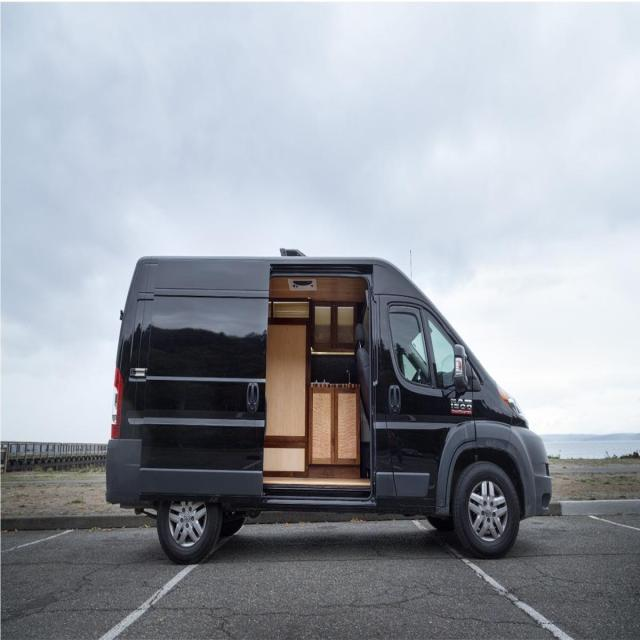truck: (104, 247, 553, 566)
